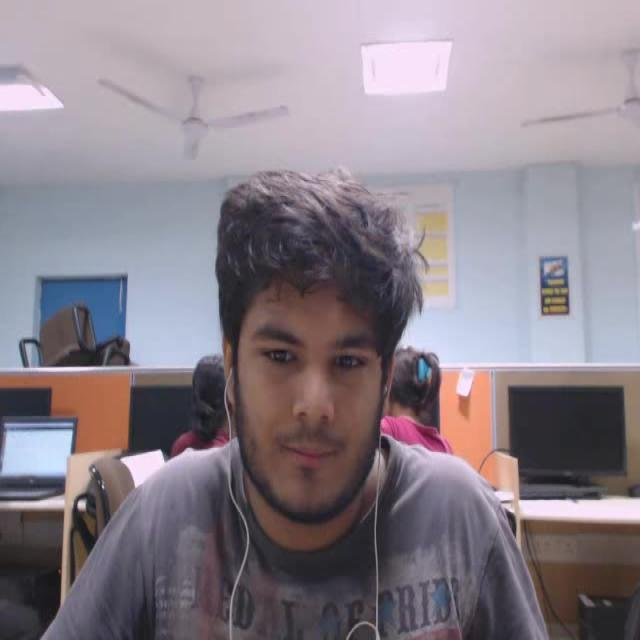Engaged: (151, 150, 445, 568)
